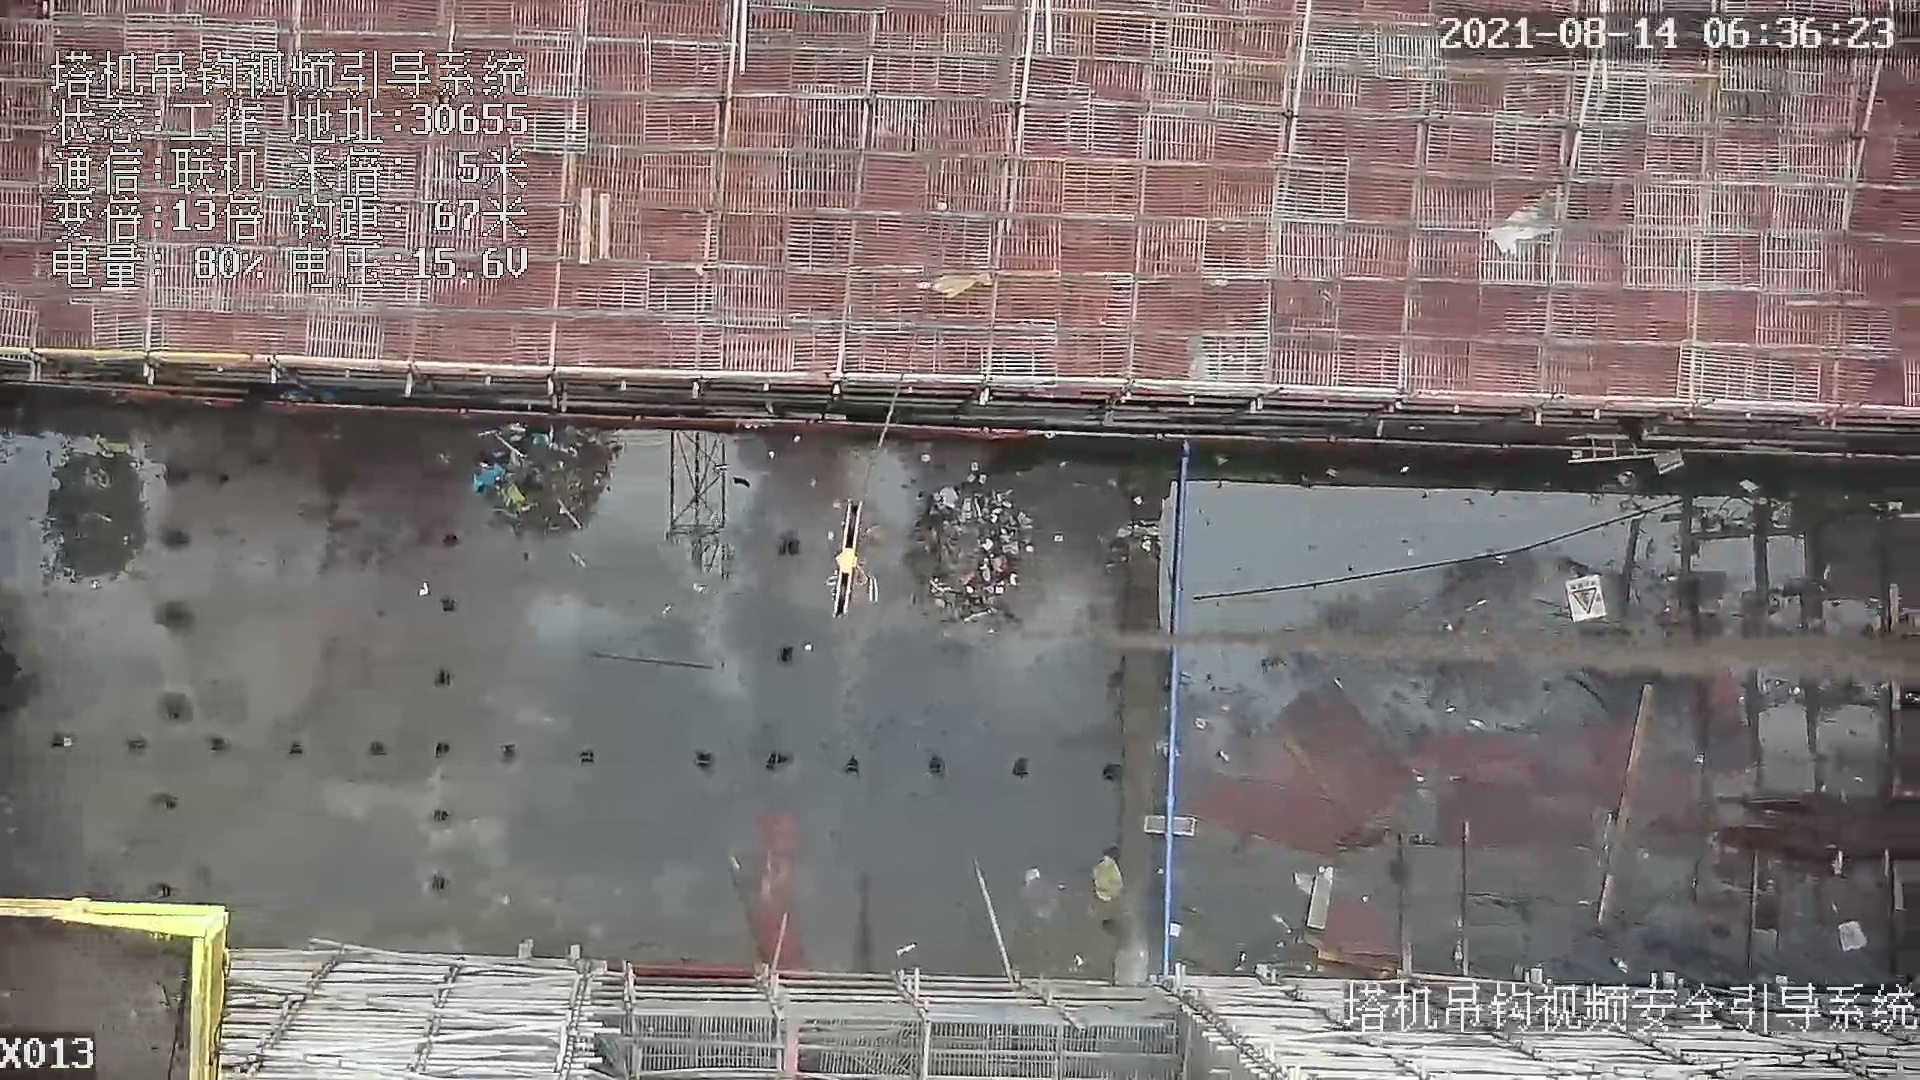hook: (829, 498, 877, 618)
